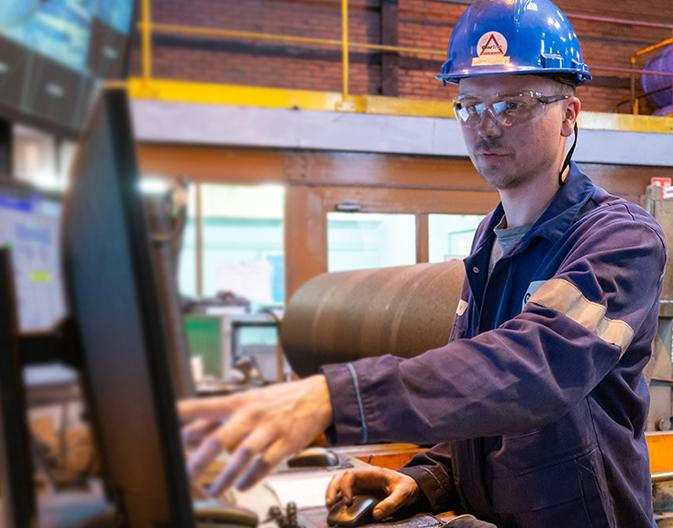helmet: (436, 1, 594, 87)
